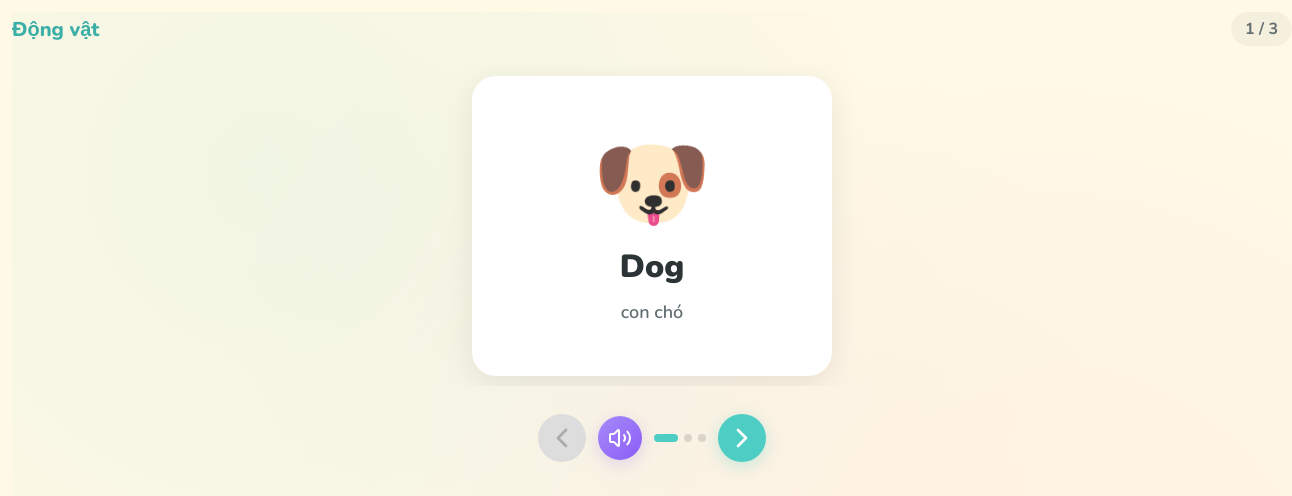
Test: FlashcardMode component › should navigate to next card when clicking next button
Click the button named "Next" at (742, 438), box [718, 414, 766, 462]
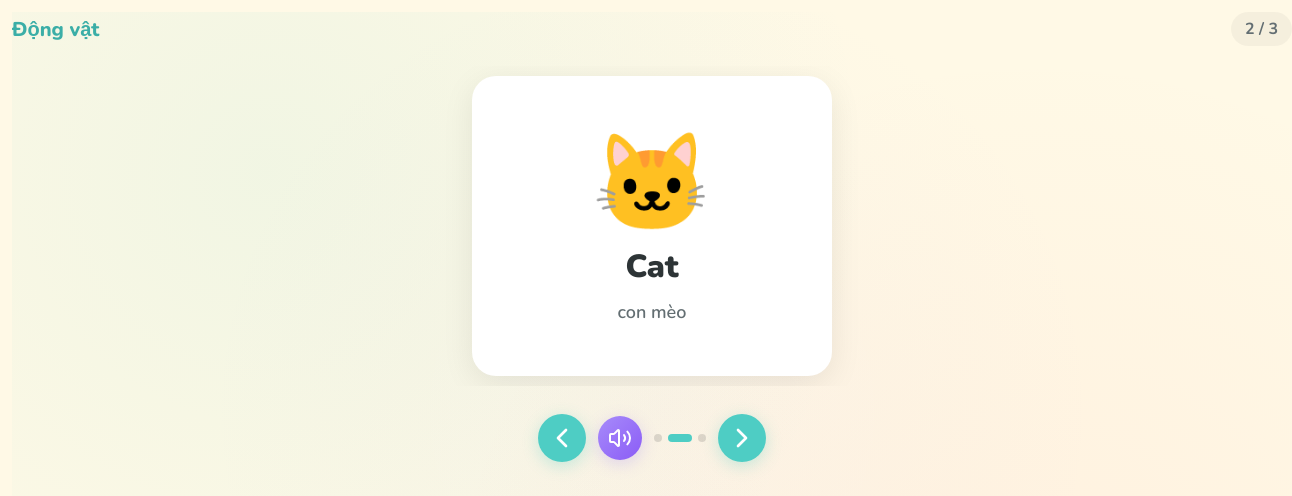
Expected: the text "2 / 3" is shown, [1231, 12, 1291, 46]
